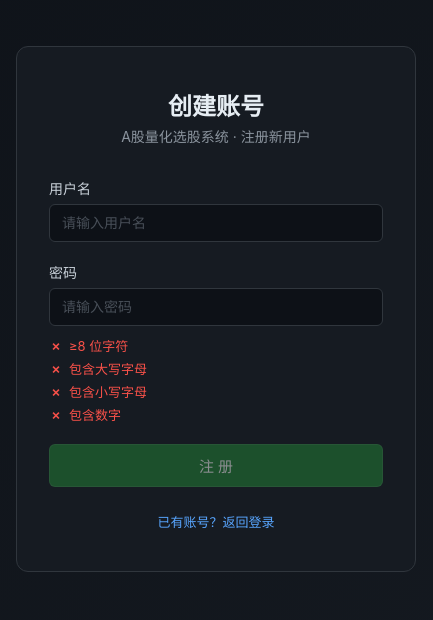
Scenario: RegisterView › 注册失败时显示错误信息
The image size is (433, 620).
Step 1. Type "newuser" into the field with id "reg-username" → (216, 223), box [49, 204, 383, 242]
Wait 400 ms
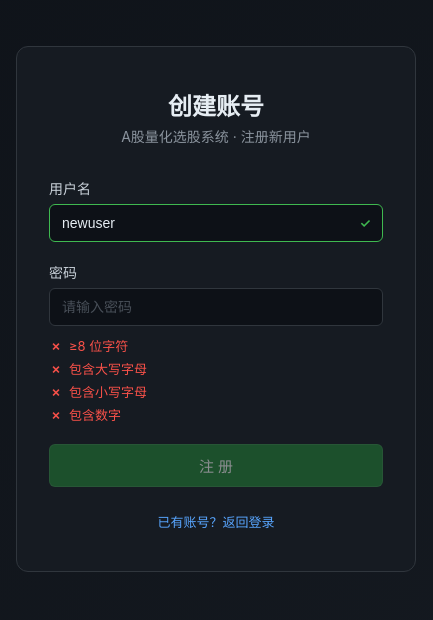
Step 2. Type "StrongPass1" into the password field with id "reg-password" → (216, 307), box [49, 288, 383, 326]
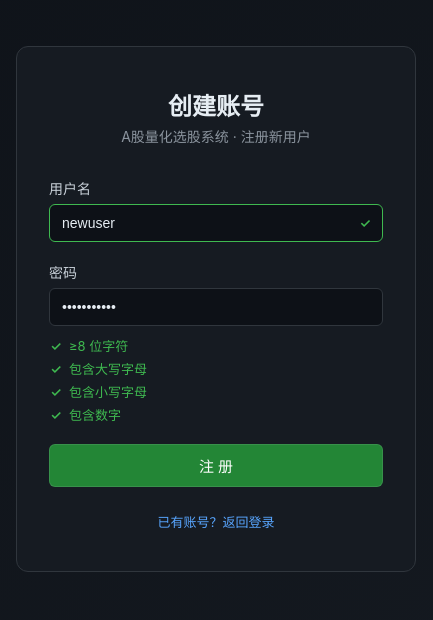
Step 3. Submit the form, box [49, 178, 383, 487]
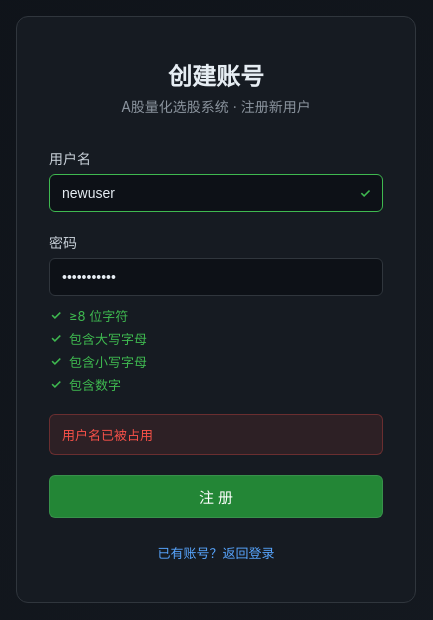
Expected: the message "用户名已被占用" is shown, [49, 414, 383, 454]
Expected: the message with class "error-message" reads "用户名已被占用", [62, 426, 153, 442]
